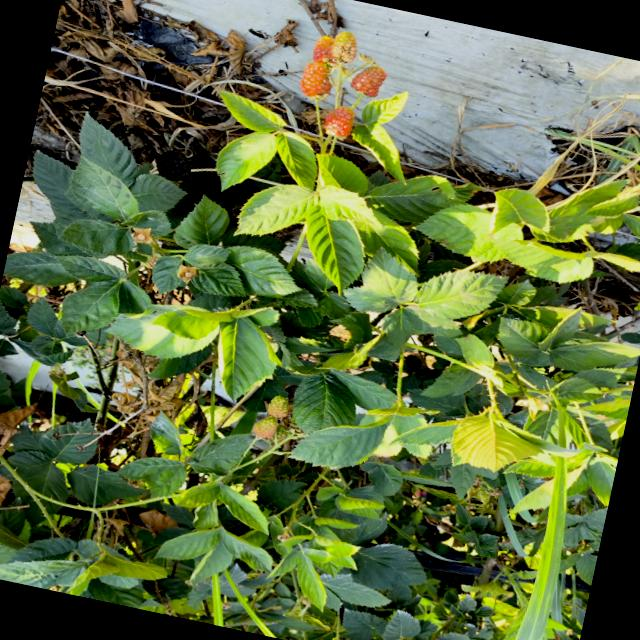naranja: (300, 62, 331, 99), (350, 66, 386, 97), (324, 106, 355, 139), (331, 31, 357, 63), (313, 35, 334, 62)
verde: (252, 417, 277, 438), (267, 396, 288, 418)
